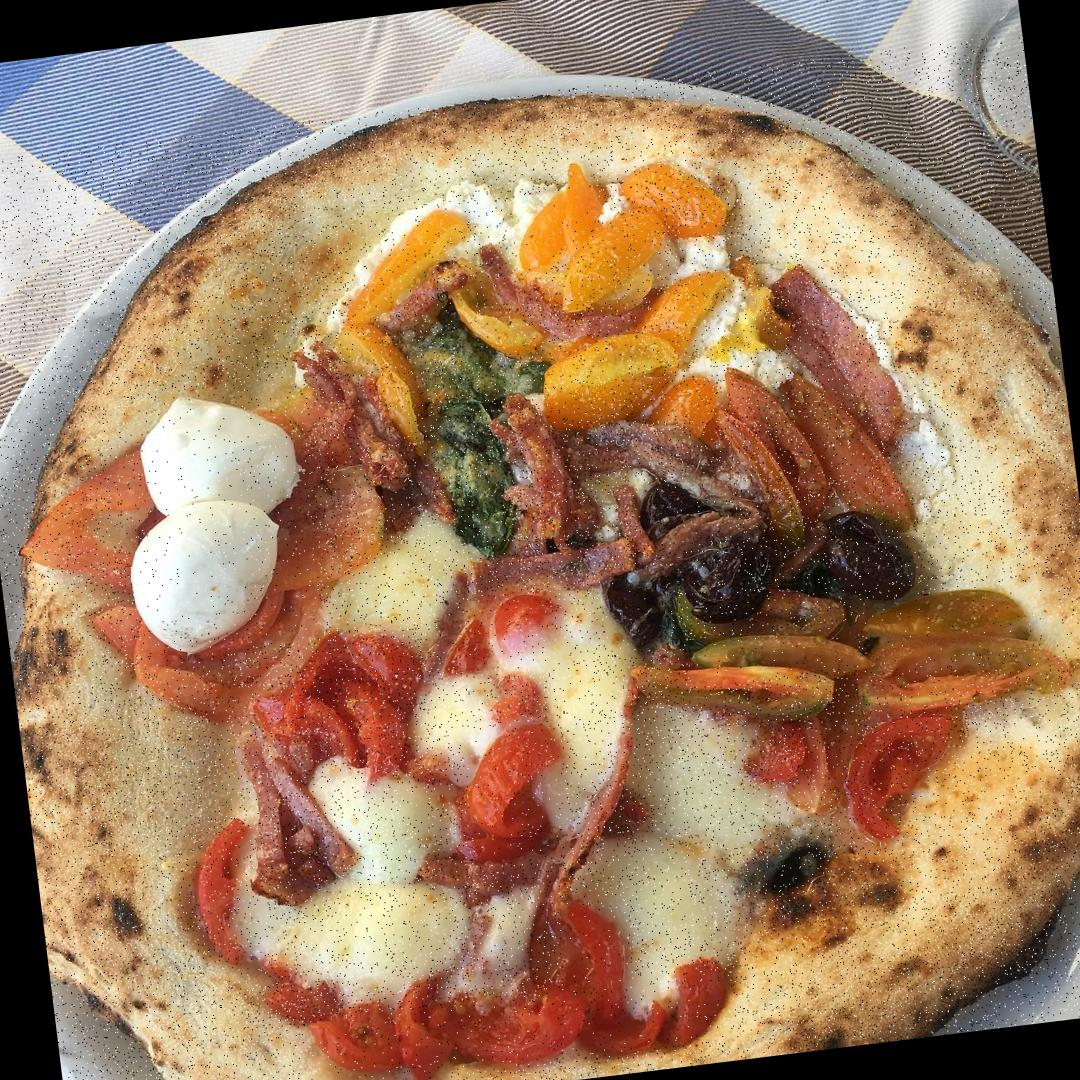Cheese: (110, 380, 323, 663)
Olives: (676, 525, 788, 624), (820, 502, 922, 608), (636, 472, 730, 542), (599, 567, 672, 655)
Peppers: (336, 204, 472, 330), (541, 330, 672, 420), (615, 150, 732, 250), (340, 310, 426, 442), (554, 208, 664, 310), (640, 268, 735, 358), (511, 188, 604, 266), (449, 273, 527, 362), (638, 371, 714, 438), (563, 160, 598, 252)
Pizza: (0, 32, 1080, 1080)
Tomatoes: (295, 970, 737, 1080), (248, 628, 432, 784), (842, 619, 1080, 717), (638, 651, 833, 740), (831, 712, 966, 840), (864, 579, 1062, 666), (460, 719, 574, 864), (186, 816, 276, 986), (434, 589, 571, 683), (688, 621, 860, 686), (556, 894, 632, 992), (258, 978, 346, 1028)
